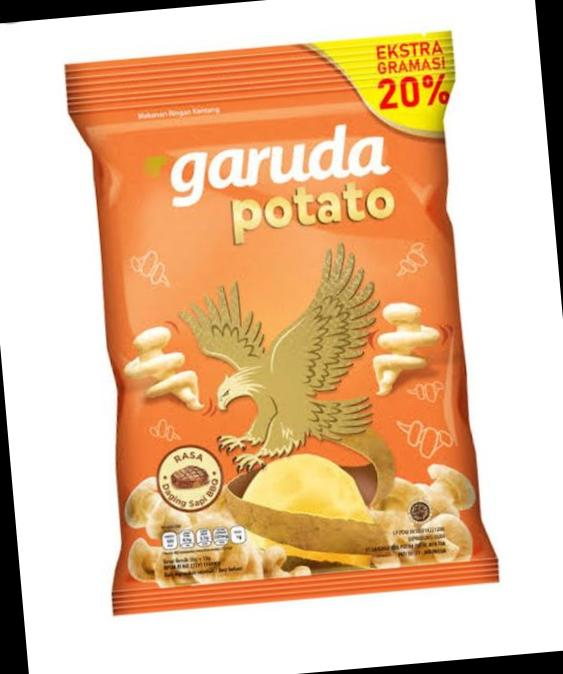Plastik: (64, 30, 499, 615)
